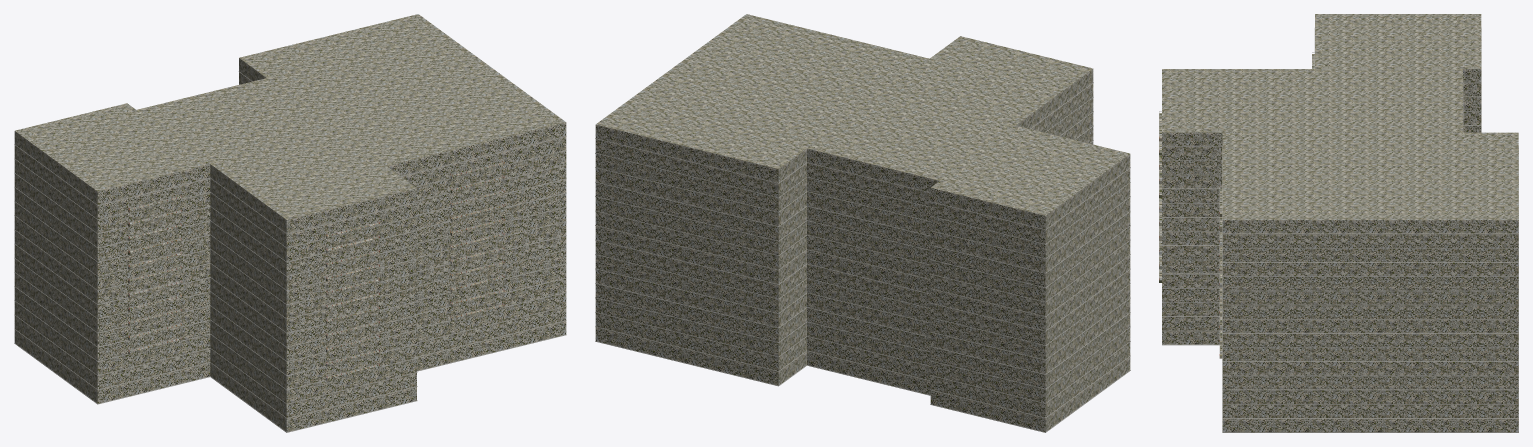
File: BalconyApartment.gltf
3 views of the same model, side by side, from view 1: azimuth 30°, elevation 25°; view 2: azimuth 150°, elevation 25°; view 3: azimuth 270°, elevation 25° (orthographic). The views are drawn at different scales.
Parts seen in each view (by area): view 1: building_003; view 2: building_003; view 3: building_003.
Boxes of the visible parts, <box> form: building_003: <box>14,14,566,432</box>; building_003: <box>595,14,1130,432</box>; building_003: <box>1159,14,1518,432</box>.
Size of the model in its own units: 162 by 78 by 120.
Materials: 3 (3 with a texture image).
